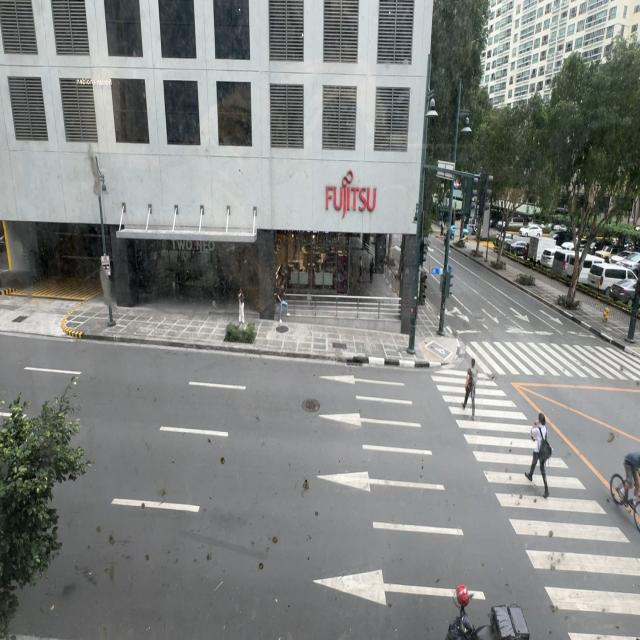crossing: (523, 414, 549, 497), (462, 360, 478, 419)
pedestrain: (238, 288, 245, 326)
